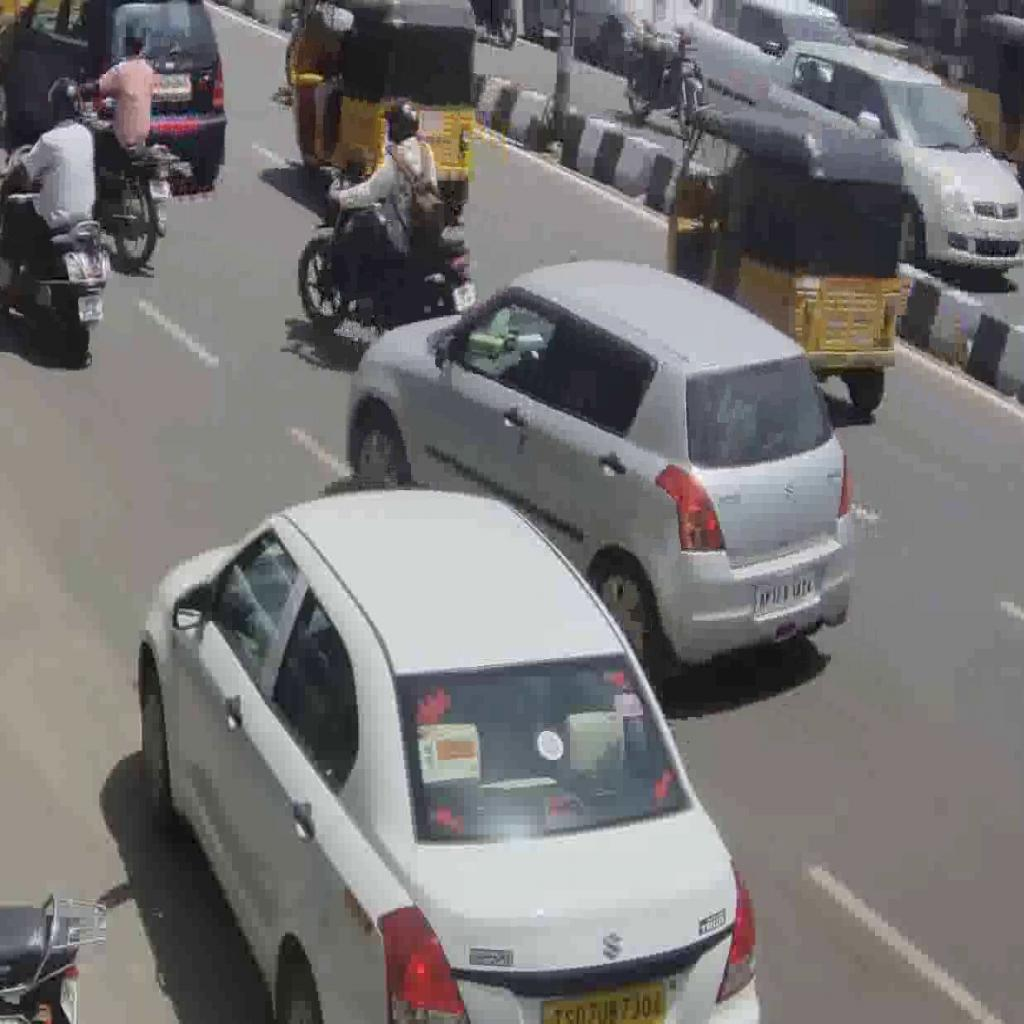helmet: (296, 166, 480, 334), (1, 142, 111, 364), (92, 113, 176, 268)
